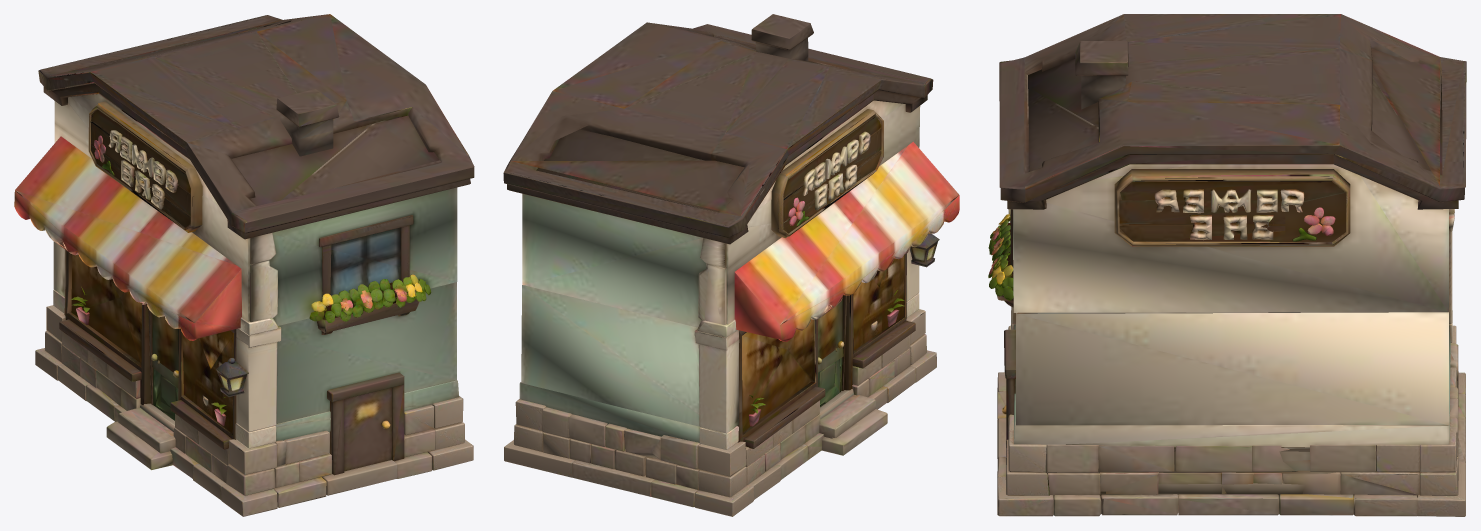
The model's file is corner_cafe_2.glb.
3 views of the same model, side by side, from view 1: azimuth 30°, elevation 25°; view 2: azimuth 150°, elevation 25°; view 3: azimuth 270°, elevation 25° (orthographic). The views are drawn at different scales.
Parts seen in each view (by area): view 1: geometry_0; view 2: geometry_0; view 3: geometry_0.
Part boxes in pixels (bbox=[...]): geometry_0: bbox=[14, 14, 474, 516]; geometry_0: bbox=[503, 14, 959, 516]; geometry_0: bbox=[988, 14, 1466, 516].
Size of the model in its own units: 0.71 by 0.877 by 0.9512.
1 material, 1 textured.
